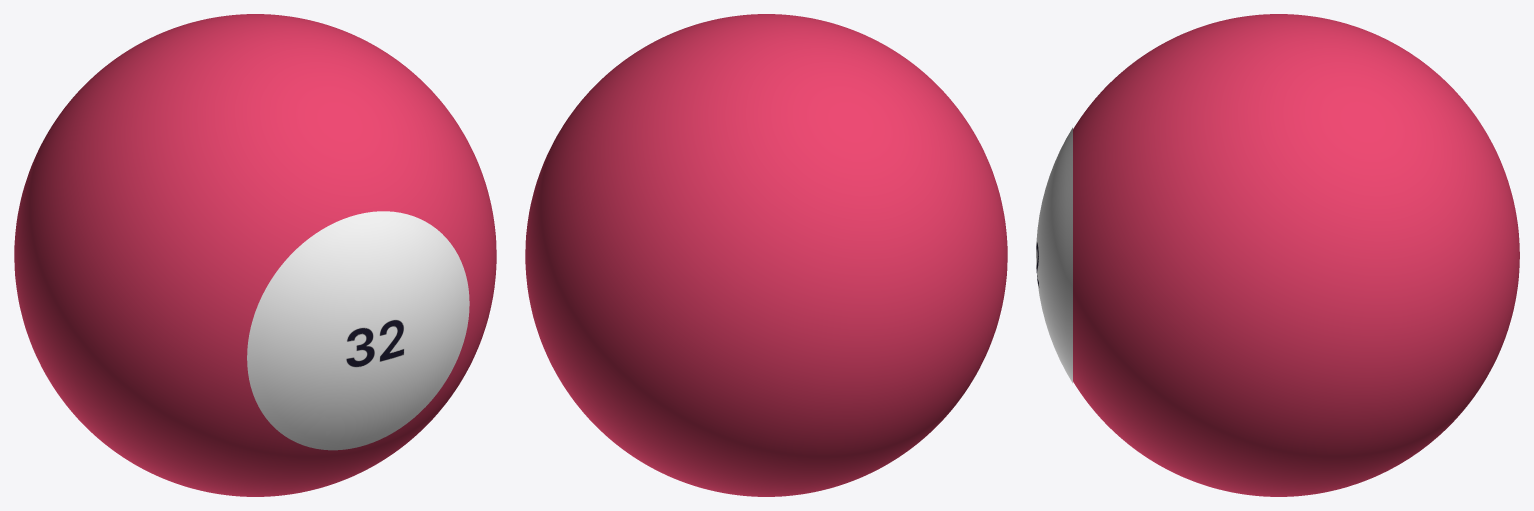
The model's file is ball-32.glb.
The picture shows the model from 3 angles, left to right: view 1: azimuth 30°, elevation 25°; view 2: azimuth 150°, elevation 25°; view 3: azimuth 270°, elevation 25°; orthographic projection.
Parts seen in each view (by area): view 1: Ball_32_Shell, Ball_32_Number_Disc; view 2: Ball_32_Shell; view 3: Ball_32_Shell, Ball_32_Number_Disc.
Part boxes in pixels (bbox=[...]): Ball_32_Shell: bbox=[14, 14, 496, 496]; Ball_32_Number_Disc: bbox=[247, 211, 469, 450]; Ball_32_Shell: bbox=[525, 14, 1007, 496]; Ball_32_Shell: bbox=[1073, 14, 1519, 496]; Ball_32_Number_Disc: bbox=[1036, 127, 1072, 383].
Size of the model in its own units: 1.84 by 1.84 by 1.84.
2 materials, 1 textured.
